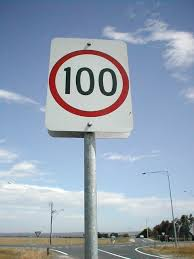Speed_limit_100km: (49, 50, 129, 117)
